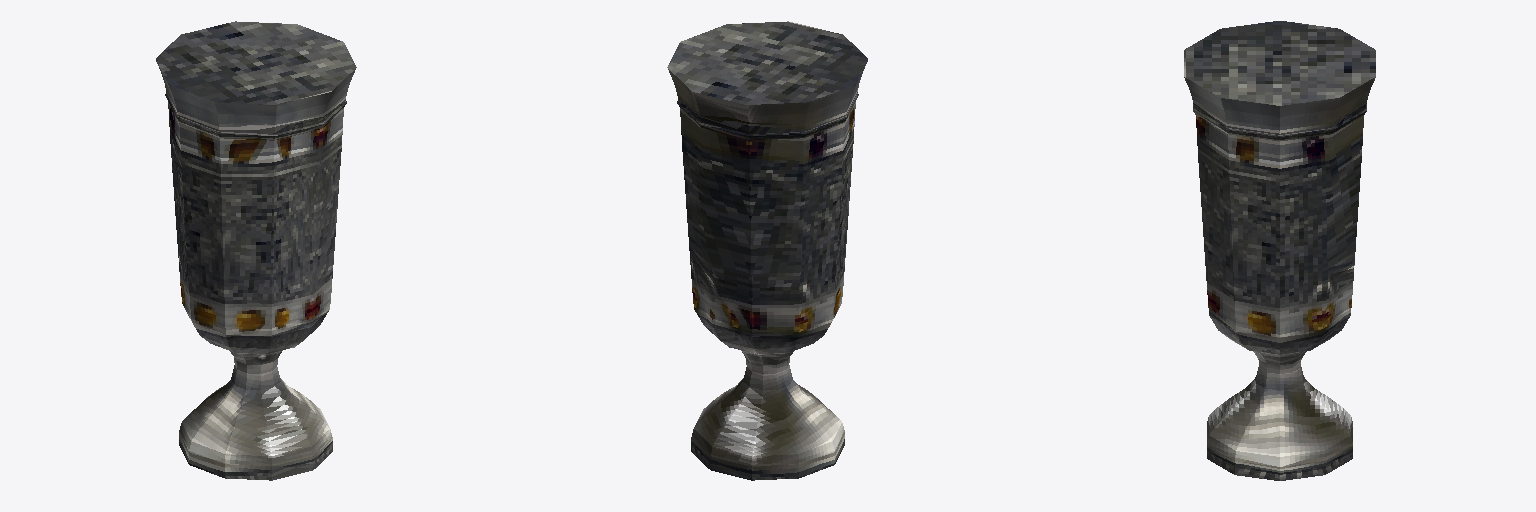
3 renders of one model, left to right at view 1: azimuth 30°, elevation 25°; view 2: azimuth 150°, elevation 25°; view 3: azimuth 270°, elevation 25°, orthographic.
Parts seen in each view (by area): view 1: goblet; view 2: goblet; view 3: goblet.
Boxes of the visible parts, x1,y1,x2,y2 form: goblet: [156, 21, 356, 480]; goblet: [667, 21, 867, 480]; goblet: [1184, 21, 1375, 480].
Size of the model in its own units: 0.1129 by 0.2371 by 0.1074.
Materials: 1 (1 with a texture image).